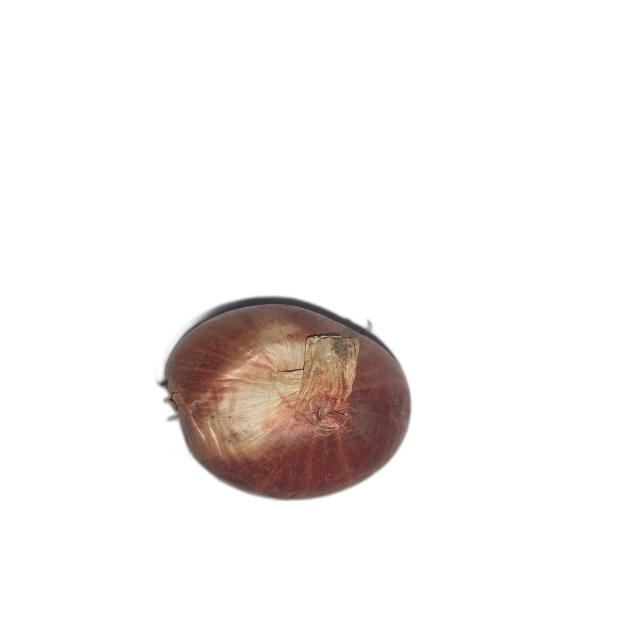onion: (164, 303, 413, 502)
